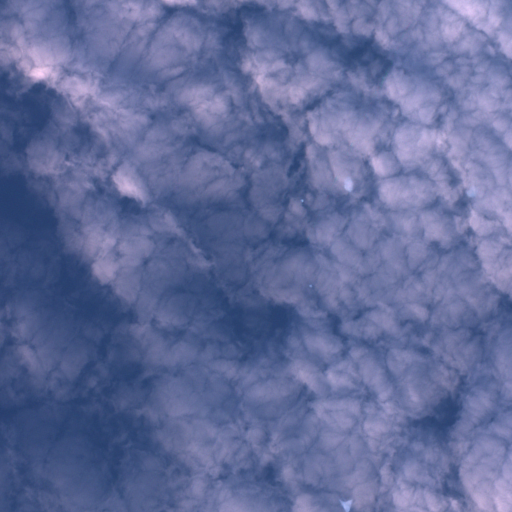Iceberg: (339, 499, 352, 511), (466, 186, 477, 197), (344, 178, 353, 191), (301, 199, 303, 201), (309, 285, 311, 286)
